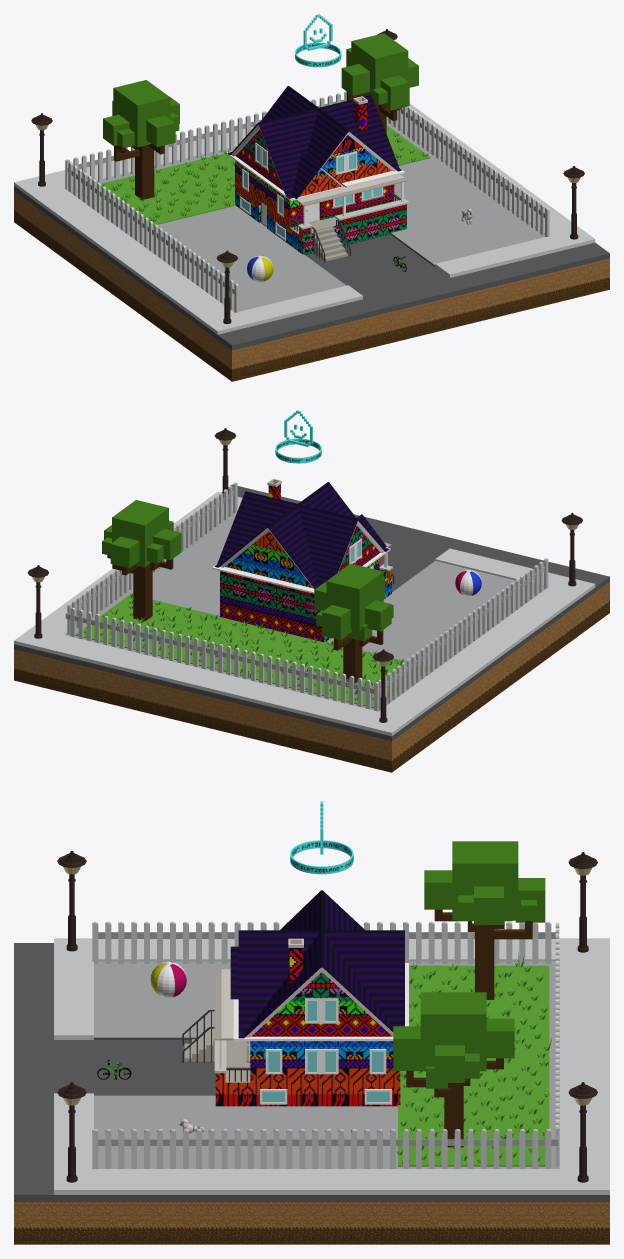
3 renders of one model, top to bottom at view 1: azimuth 30°, elevation 25°; view 2: azimuth 150°, elevation 25°; view 3: azimuth 270°, elevation 25°, orthographic. The views are drawn at different scales.
Visible parts, largest first — view 1: Cube.004, Cube.966, TYPE_PREMIUM, OBJRANDOM_BEACHBALL; view 2: Cube.004, Cube.966, TYPE_PREMIUM, OBJRANDOM_BEACHBALL; view 3: Cube.004, Cube.966, TYPE_PREMIUM, OBJRANDOM_BEACHBALL.
Part boxes in pixels (left/top/right/bottom): Cube.004: left=14, top=29, right=609, bottom=381; Cube.966: left=226, top=86, right=409, bottom=262; TYPE_PREMIUM: left=295, top=14, right=341, bottom=67; OBJRANDOM_BEACHBALL: left=247, top=255, right=273, bottom=282; Cube.004: left=14, top=428, right=609, bottom=772; Cube.966: left=212, top=478, right=394, bottom=642; TYPE_PREMIUM: left=275, top=410, right=321, bottom=463; OBJRANDOM_BEACHBALL: left=455, top=569, right=481, bottom=596; Cube.004: left=14, top=841, right=609, bottom=1244; Cube.966: left=182, top=890, right=408, bottom=1106; TYPE_PREMIUM: left=290, top=801, right=353, bottom=874; OBJRANDOM_BEACHBALL: left=150, top=961, right=186, bottom=997.
Bounding box in the file's own units: 4000 × 2567 × 4000.
Materials: 37 (8 with a texture image).
